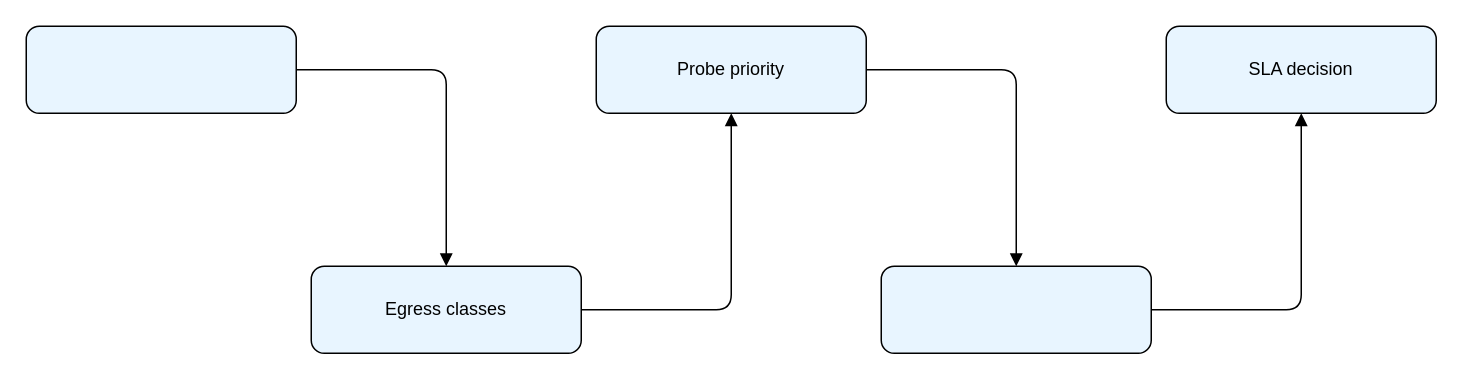
Image size: 1463x380. Some labels were removed from this diagram. Each missing label, with the box of its shape:
Bulk traffic: (25, 25, 296, 113)
WAN path: (880, 265, 1151, 353)
